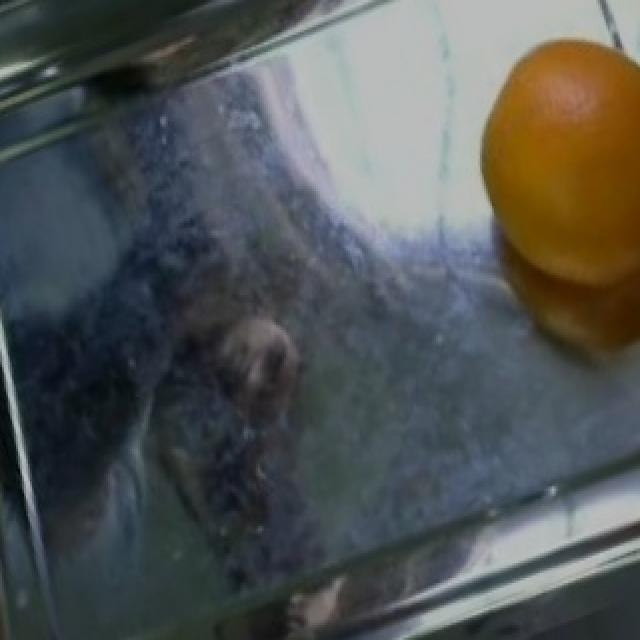Fruit: (458, 15, 640, 347)
